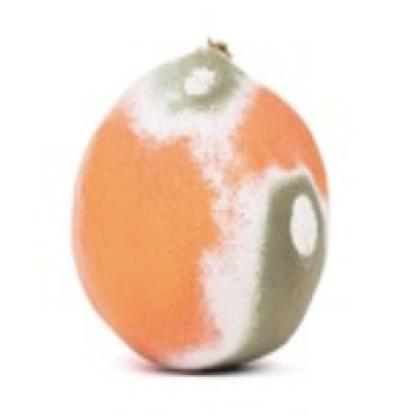rotten: (75, 38, 331, 378)
